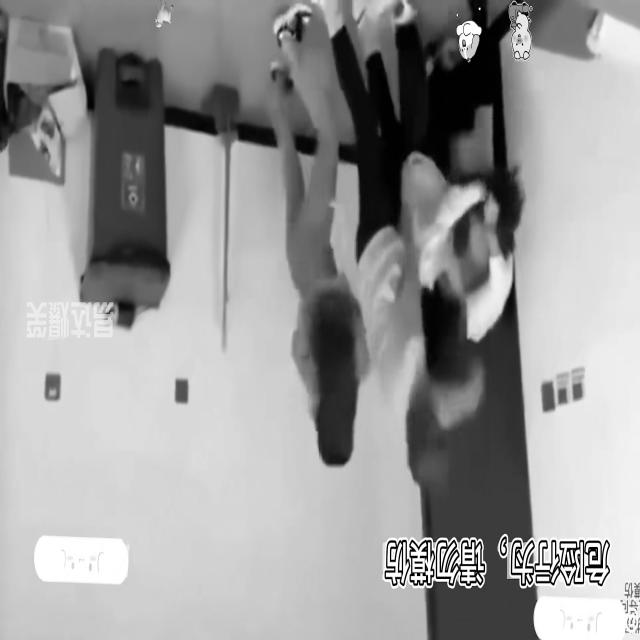fight: (396, 128, 521, 391)
nofight: (261, 9, 369, 467)
